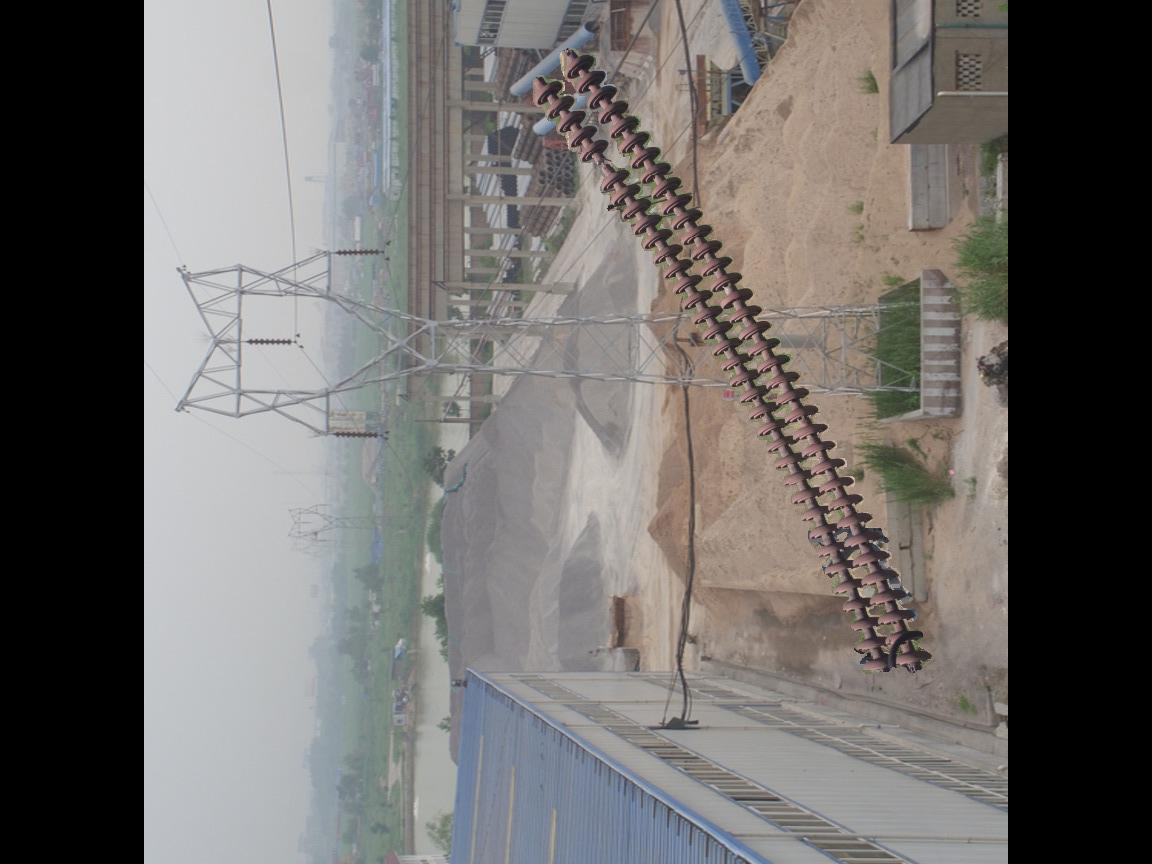insulator: (524, 52, 935, 677), (242, 331, 296, 353), (330, 426, 385, 446), (332, 244, 387, 262)
insulator_stringdrop: (577, 137, 631, 196)
